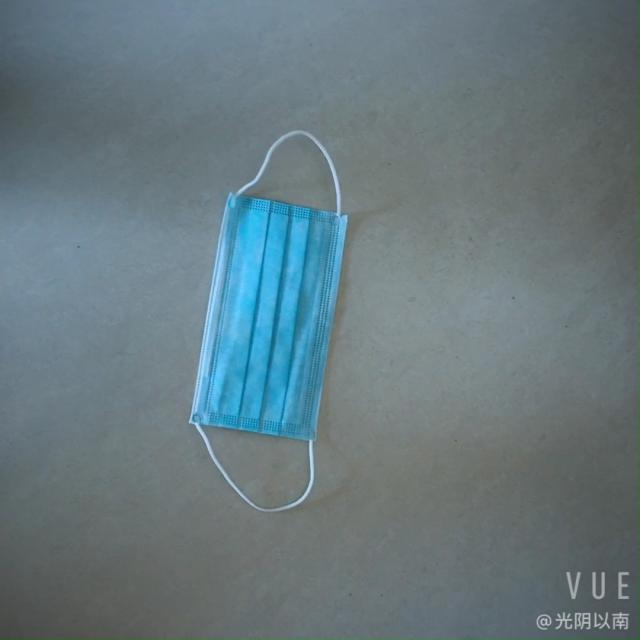face mask: (178, 182, 362, 460)
